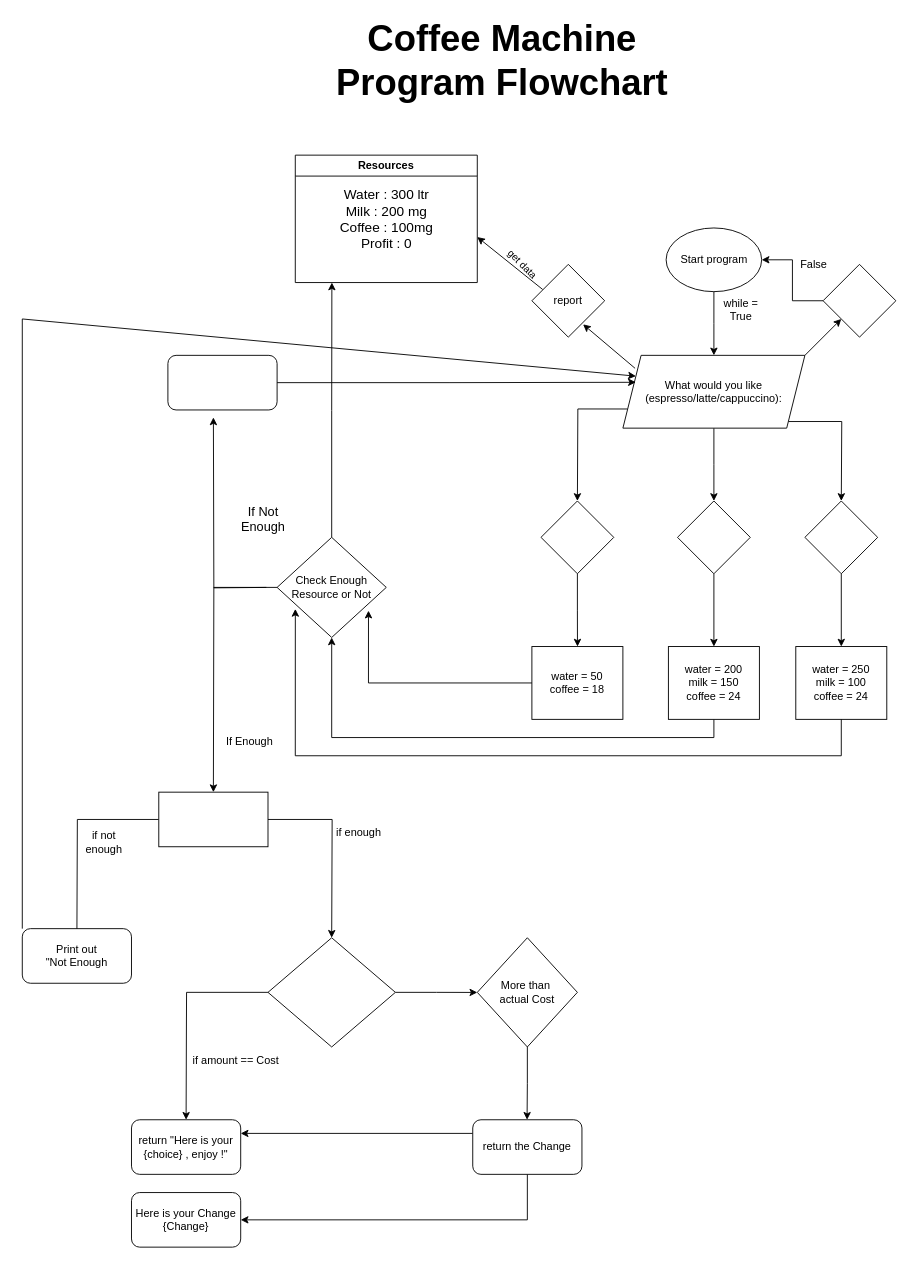
Some shapes in this 912 by 1263 pixel diagram are drawn without their labels. Each missing label, with the centre of its shape:
"cappuccino" belongs at point (841, 537).
"Check the Payment Amount" belongs at point (331, 992).
"espresso" belongs at point (577, 537).
"latte" belongs at point (713, 537).
"off" belongs at point (859, 300).
"Print out the Reasons why" belongs at point (222, 382).
"Process Payment" belongs at point (213, 819).
